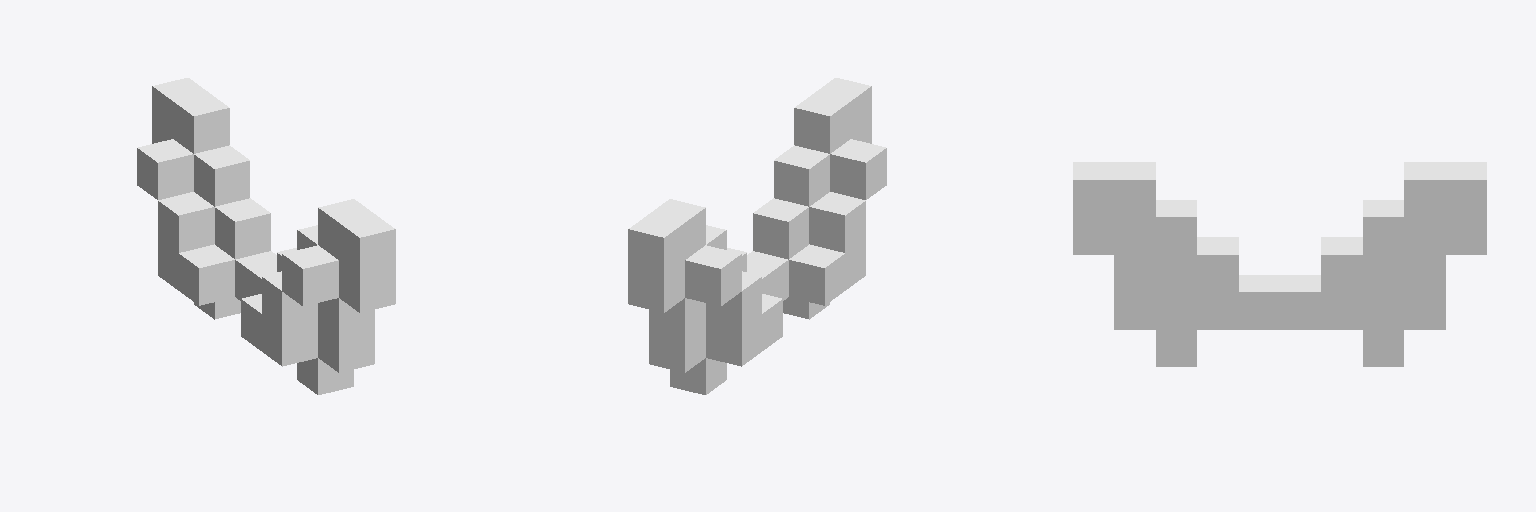
Rendered from Bunny-(Brown)-(Ears-Only).obj.
3 renders of one model, left to right at view 1: azimuth 30°, elevation 25°; view 2: azimuth 150°, elevation 25°; view 3: azimuth 270°, elevation 25°, orthographic.
Parts seen in each view (by area): view 1: object 1; view 2: object 1; view 3: object 1.
Part boxes in pixels (left/top/right/bottom): object 1: left=137, top=78, right=395, bottom=394; object 1: left=628, top=78, right=886, bottom=394; object 1: left=1073, top=162, right=1486, bottom=366.
Size of the model in its own units: 0.2 by 0.5 by 1.